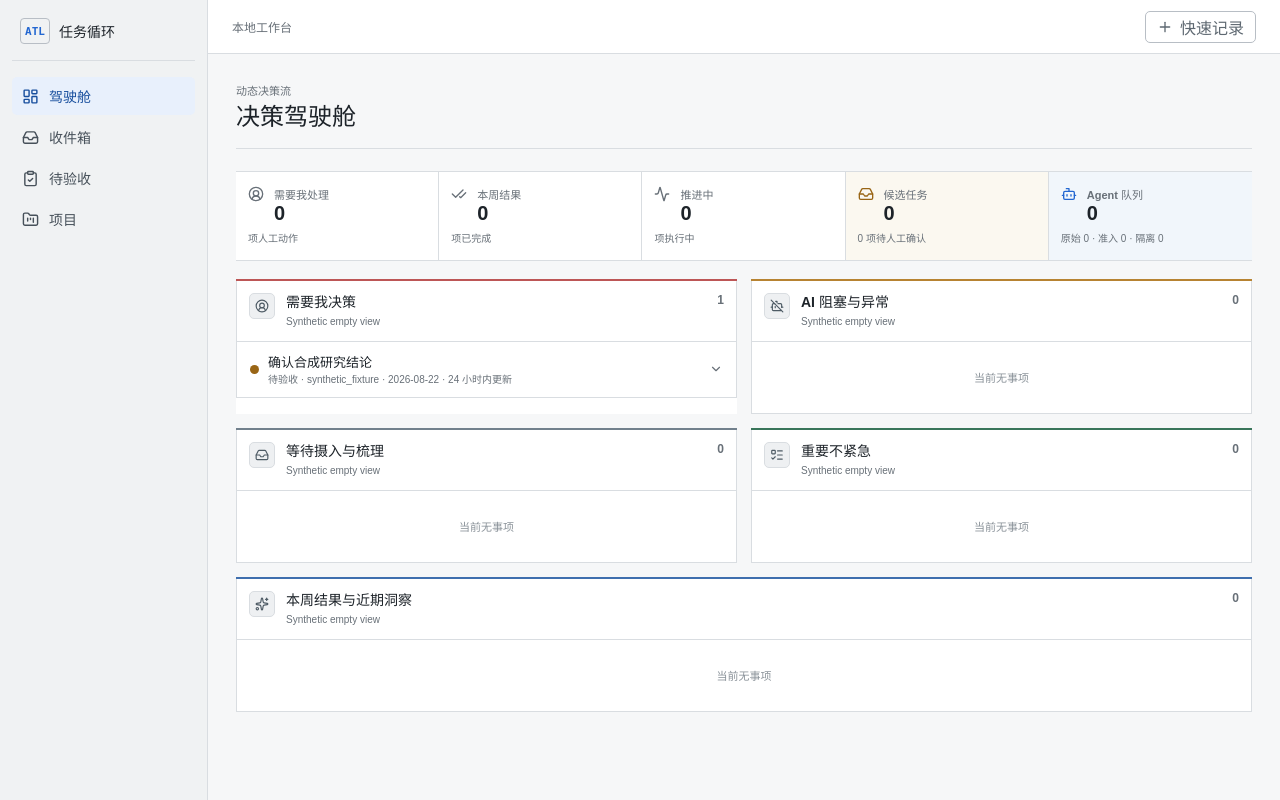
Test: local task board shell › renders five stable decision views with explainable cards and a fact-entry action
The image size is (1280, 800).
expect the heading "需要我决策" is shown: met, box 286,294 -> 356,310
expect the heading "AI 阻塞与异常" is shown: met, box 801,294 -> 889,310
Click the button named "含待人工确认项" at [323, 364], box 237,342 -> 736,397
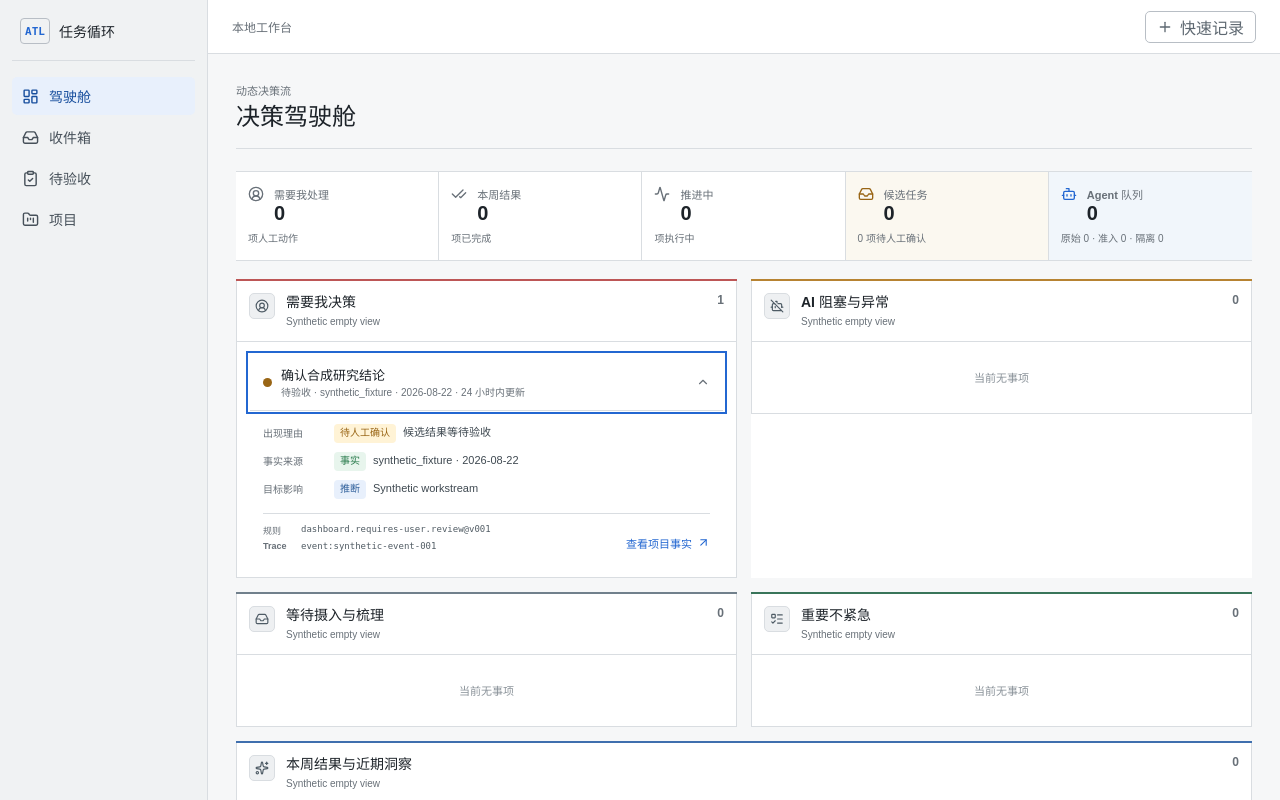
expect the button named "含待人工确认项" is expanded: met, box 250,355 -> 723,410
expect the text "候选结果等待验收" is shown: met, box 403,424 -> 491,441
expect the text "synthetic_fixture · 2026-08-22" is shown: met, box 373,452 -> 518,469
Click the link "查看项目事实" at [668, 543], box 626,535 -> 710,551
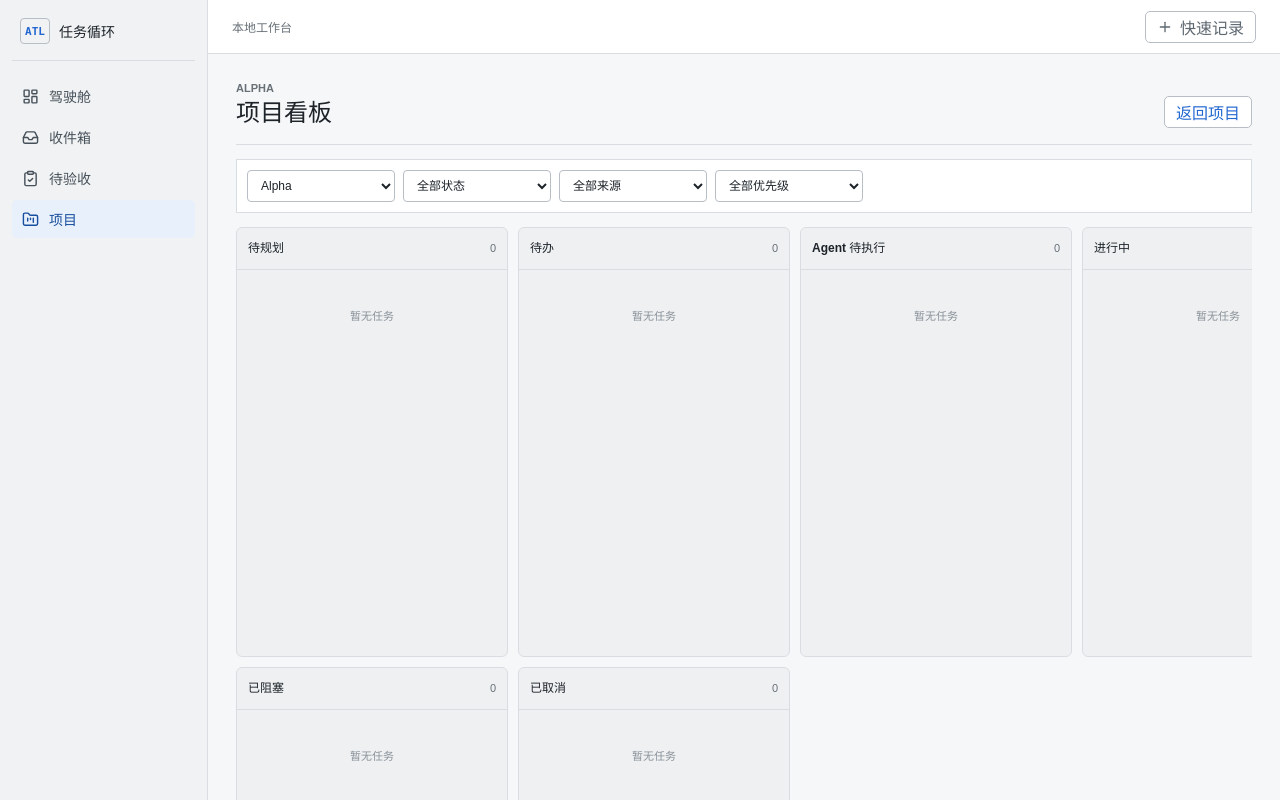
expect the heading "项目看板" is shown: met, box 236,99 -> 332,128
